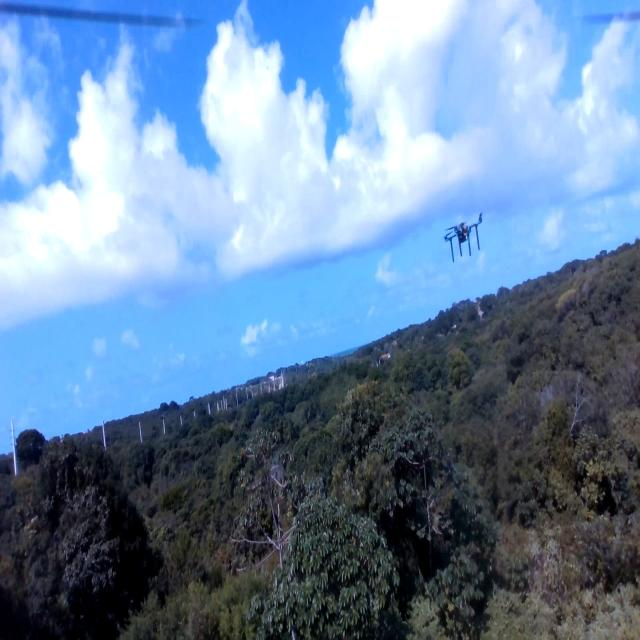-uav-: (437, 202, 489, 264)
